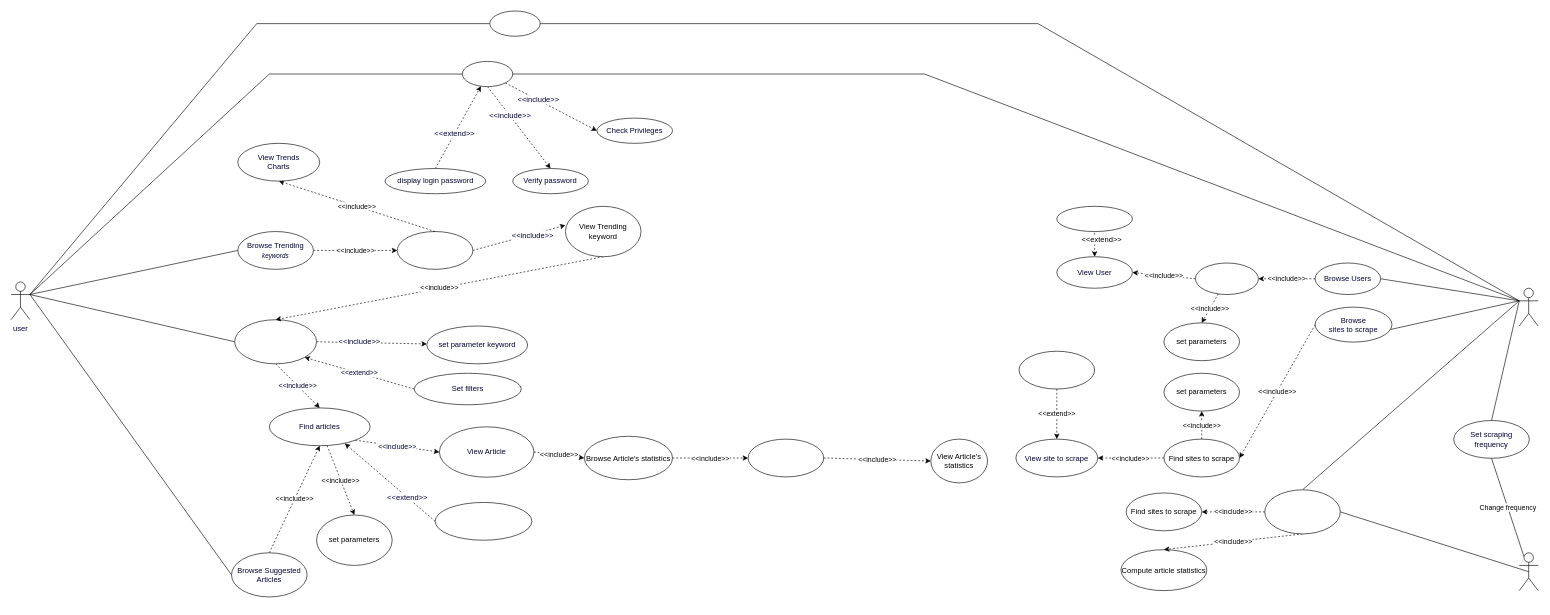
The diagram is 1550 pixels wide and 615 high, and some of its shapes have lost their labels. The centre of each missing label's shape, as x and y in pixels:
"admin" belongs at (1528,307).
"Browse Articles" belongs at (275,341).
"Delete User" belongs at (1094,219).
"Find Article's statistics" belongs at (785,457).
"Find Trending keyword" belongs at (435,250).
"Find Users" belongs at (1226,278).
"Log In" belongs at (487,74).
"Open external link" belongs at (483,521).
"Scrape" belongs at (1302,511).
"Select site to scrape" belongs at (1056,370).
"Sign In" belongs at (514,23).
"Time" belongs at (1528,571).
